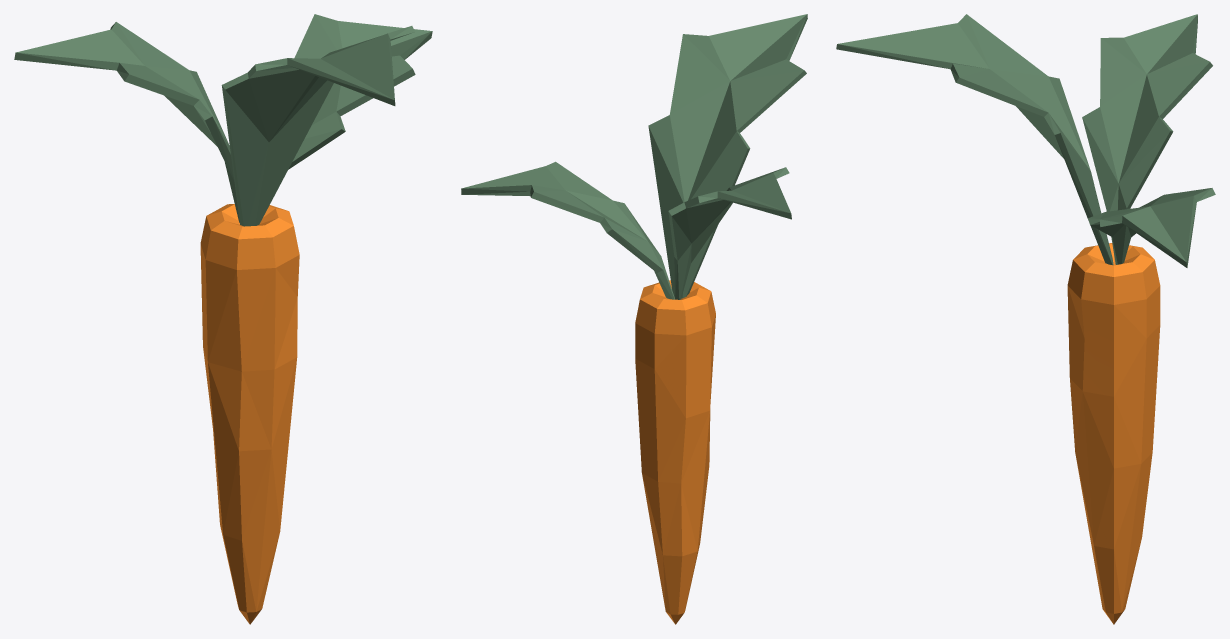
The model's file is mod_vg_carrotM.fbx.
The picture shows the model from 3 angles, left to right: view 1: azimuth 30°, elevation 25°; view 2: azimuth 150°, elevation 25°; view 3: azimuth 270°, elevation 25°; orthographic projection. The views are drawn at different scales.
Visible parts, largest first — view 1: carrot; view 2: carrot; view 3: carrot.
Part boxes in pixels (x1,y1,x2,y2): carrot: (14,14,432,624); carrot: (461,14,807,624); carrot: (836,14,1215,624).
Bounding box in the file's own units: 43.73 × 65.43 × 38.63.
